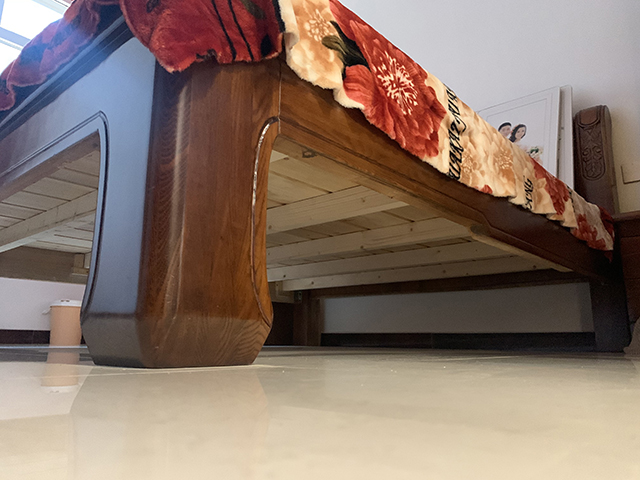bed: (1, 1, 632, 370)
trash can: (42, 299, 81, 349)
